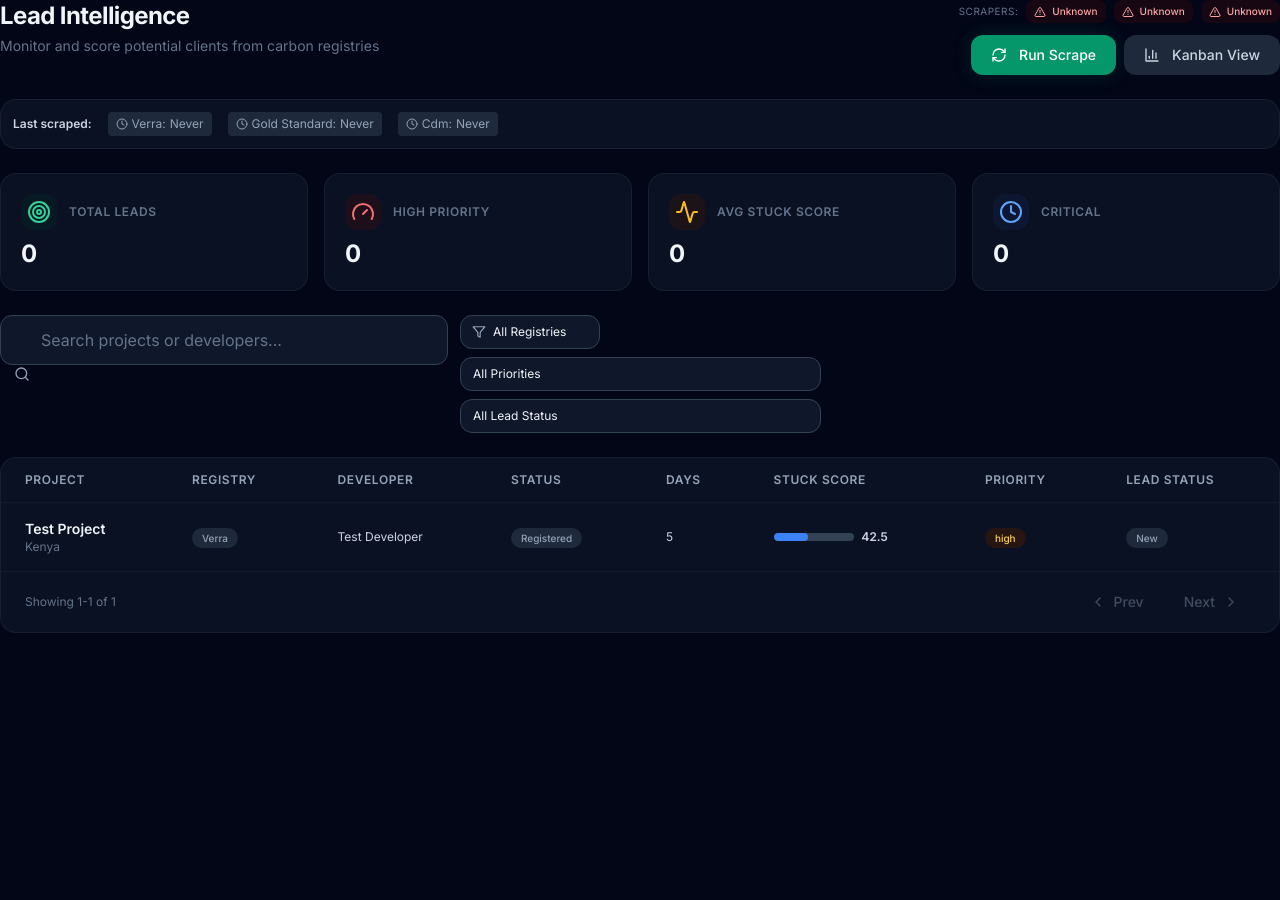
Scenario: LeadDocuments › renders documents panel with fetched docs
The width and height of the screenshot is (1280, 900).
Click the text "Test Project".
click(65, 528)  # box [25, 520, 105, 537]
(page scrolled)
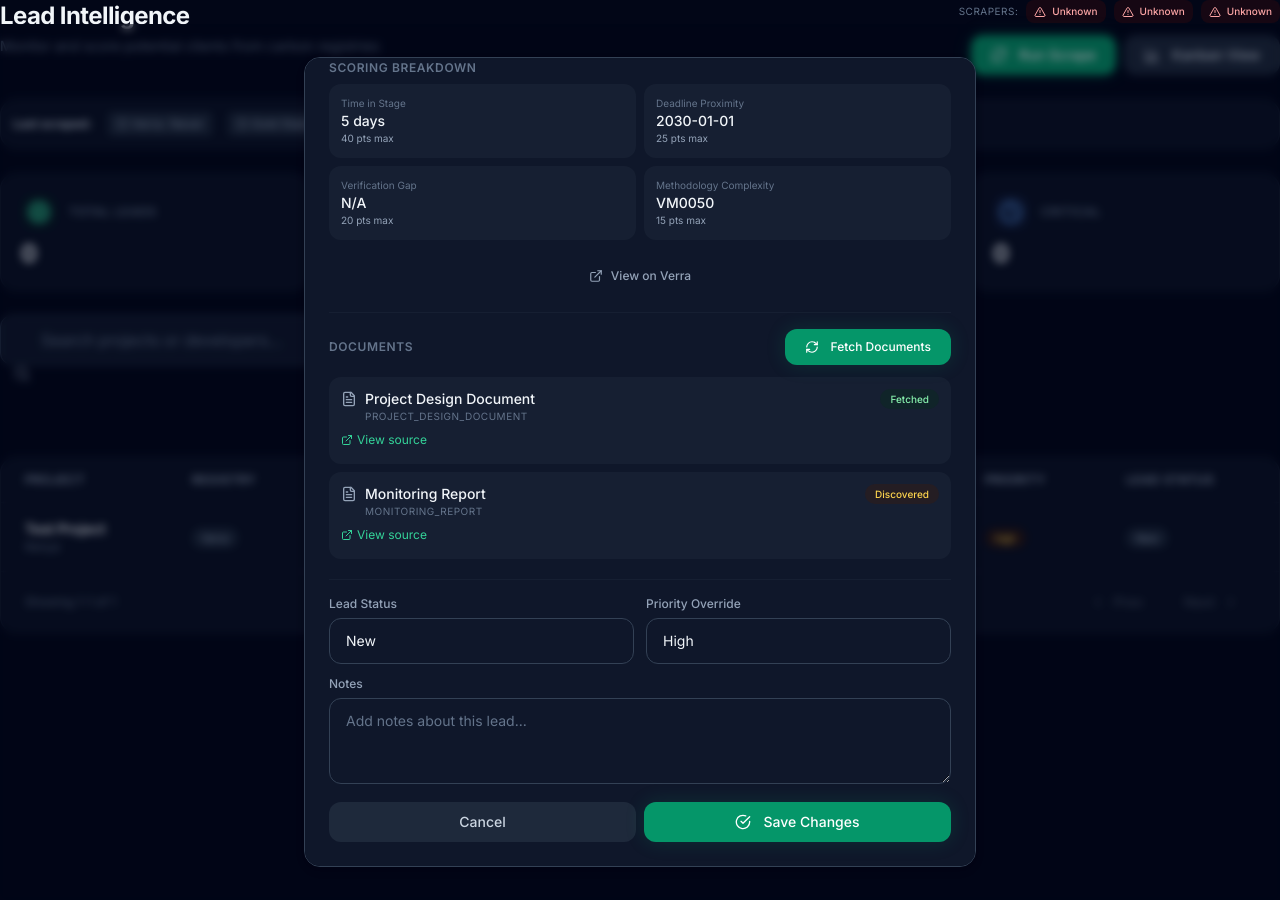
Expected: the text "Documents" is shown, [329, 339, 413, 355]
Expected: the text "Project Design Document" is shown, [365, 389, 535, 409]
Expected: the text "Monitoring Report" is shown, [365, 484, 486, 504]
